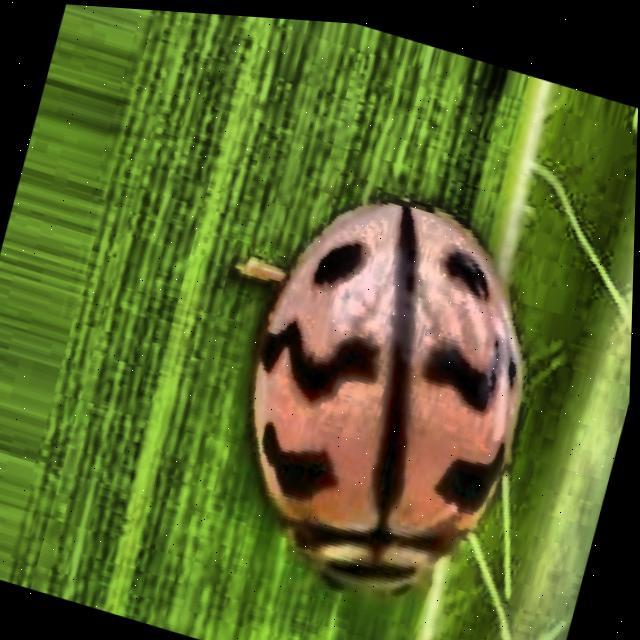Asian-Lady-beetle: (164, 83, 627, 640)
